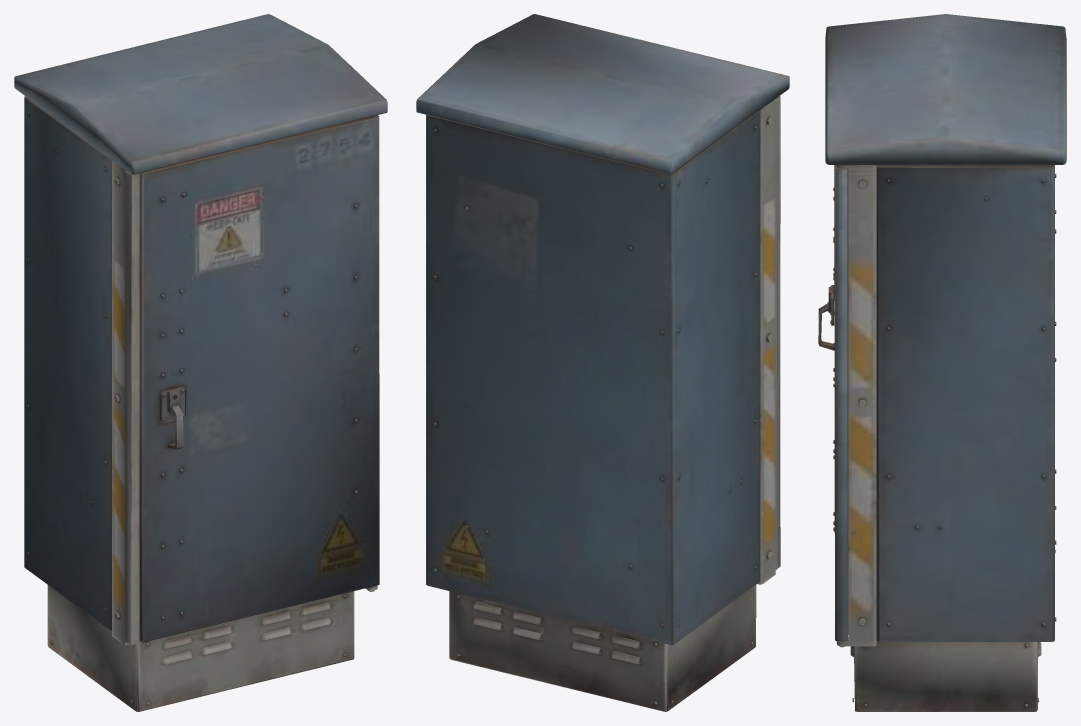
The model's file is utility_box.glb.
The picture shows the model from 3 angles, left to right: view 1: azimuth 30°, elevation 25°; view 2: azimuth 150°, elevation 25°; view 3: azimuth 270°, elevation 25°; orthographic projection.
Parts seen in each view (by area): view 1: utility_box_01_box; view 2: utility_box_01_box; view 3: utility_box_01_box.
Boxes of the visible parts, box(x1,y1,x2,y2) form: utility_box_01_box: box(14, 14, 387, 711); utility_box_01_box: box(416, 14, 789, 711); utility_box_01_box: box(818, 14, 1066, 711).
Size of the model in its own units: 0.5176 by 1.12 by 0.4319.
Materials: 1 (1 with a texture image).
